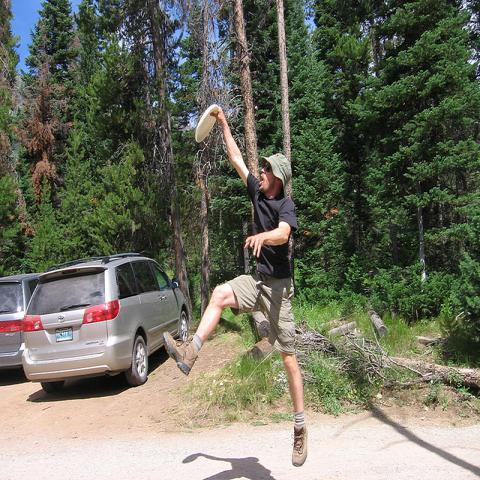car: (22, 253, 190, 394), (1, 276, 36, 366)
